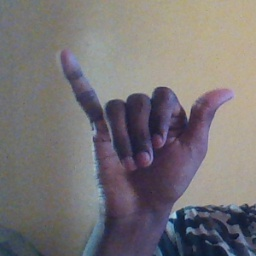J: (54, 47, 238, 223)
